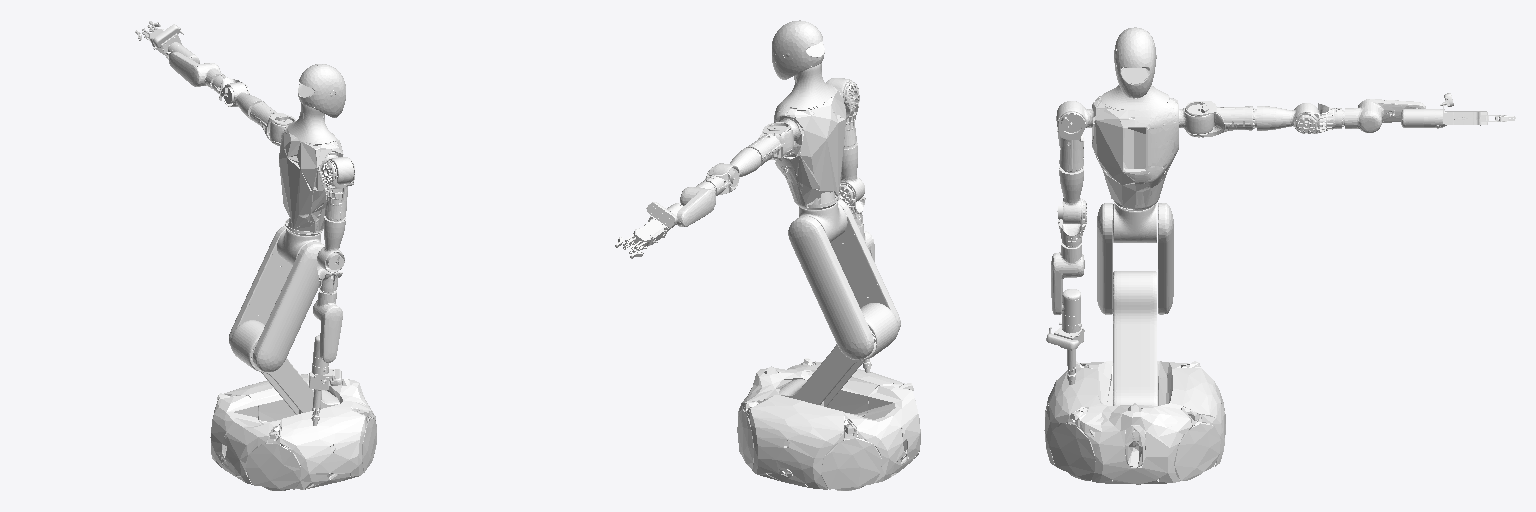
--- Facts derived from the render (not from the file) ---
3 views of the same robot in one strip: view 1: azimuth 30°, elevation 25°; view 2: azimuth 150°, elevation 25°; view 3: azimuth 270°, elevation 25° (orthographic).
Model galbot_one with 51 links and 50 joints (7 revolute, 2 prismatic, 41 fixed), rooted at mobile_base, posed all joints at 0 but 2 set to mid-range because 0 is outside their limits (left_gripper_left_joint = 0.0275, left_gripper_right_joint = 0.0275).
Links seen in each view (by area): view 1: omni_chassis_base_link, leg_link2, torso_base_link, leg_link1, head_link2, right_arm_link5, right_arm_link2, right_arm_link3, left_arm_link5, left_arm_link3, leg_link3, left_arm_link2; view 2: omni_chassis_base_link, leg_link2, torso_base_link, leg_link1, head_link2, left_arm_link5, left_arm_link2, left_arm_link3, leg_link3, left_gripper_base_link, right_arm_link2, right_arm_link3 (+1 smaller); view 3: omni_chassis_base_link, torso_base_link, leg_link1, leg_link2, head_link2, left_arm_link5, leg_link3, right_arm_link5, left_arm_link2, right_arm_link3, right_arm_link2, left_arm_link3 (+5 smaller).
Link boxes in pixels (x1,y1,x2,y2): omni_chassis_base_link: (210, 373, 376, 490); leg_link2: (229, 226, 324, 371); torso_base_link: (279, 103, 343, 232); leg_link1: (231, 320, 339, 414); head_link2: (298, 64, 345, 117); right_arm_link5: (313, 289, 342, 362); right_arm_link2: (322, 158, 354, 221); right_arm_link3: (317, 216, 345, 272); left_arm_link5: (169, 52, 224, 89); left_arm_link3: (221, 82, 264, 119); leg_link3: (277, 229, 321, 265); left_arm_link2: (250, 102, 295, 145); omni_chassis_base_link: (737, 358, 920, 490); leg_link2: (788, 199, 900, 359); torso_base_link: (774, 63, 845, 207); leg_link1: (779, 303, 898, 406); head_link2: (772, 20, 824, 79); left_arm_link5: (677, 181, 715, 226); left_arm_link2: (746, 122, 791, 165); left_arm_link3: (712, 148, 760, 190); leg_link3: (799, 199, 847, 242); left_gripper_base_link: (623, 216, 668, 253); right_arm_link2: (826, 79, 859, 148); right_arm_link3: (840, 142, 864, 201); omni_chassis_base_link: (1044, 361, 1225, 484); torso_base_link: (1092, 85, 1178, 209); leg_link1: (1113, 271, 1156, 449); leg_link2: (1097, 203, 1173, 314); head_link2: (1114, 27, 1156, 98); left_arm_link5: (1345, 99, 1425, 132); leg_link3: (1113, 203, 1156, 242); right_arm_link5: (1051, 243, 1084, 314); left_arm_link2: (1185, 101, 1256, 137); right_arm_link3: (1057, 166, 1083, 223); right_arm_link2: (1057, 112, 1084, 172); left_arm_link3: (1257, 103, 1319, 131).
Bounding box of the posed robot: 0.5907 × 1.53 × 1.58 m (x, y, z).
Meshes: 33 distinct files referenced, 35 mesh visuals loaded (33 binary STL).

URDF robot description (galbot_one):
<?xml version="1.0" ?>
<!-- =================================================================================== -->
<!-- |    This document was autogenerated by xacro from urdf/galbot_one/galbot_one.xacro | -->
<!-- |    EDITING THIS FILE BY HAND IS NOT RECOMMENDED                                 | -->
<!-- =================================================================================== -->
<!-- 
#####################################################################################
#
# Copyright (c) 2023-2024 Galbot, Inc. All lefts Reserved.
#
# This software contains confidential and proprietary information of Galbot, Inc.
# ("Confidential Information"). You shall not disclose such Confidential Information
# and shall use it only in accordance with the terms of the license agreement you
# entered into with Galbot, Inc.
#
# UNAUTHORIZED COPYING, USE, OR DISTRIBUTION OF THIS SOFTWARE, OR ANY PORTION OR
# DERIVATIVE THEREOF, IS STRICTLY PROHIBITED. IF YOU HAVE RECEIVED THIS SOFTWARE IN
# ERROR, PLEASE NOTIFY GALBOT, INC. IMMEDIATELY AND DELETE IT FROM YOUR SYSTEM.
#
#####################################################################################
#
# Description: Xacro file for Galbot One.
# Author: Herman Ye@Galbot, Yuhao Zeng@Galbot
#
#####################################################################################
-->
<robot name="galbot_one">
  <!-- ROBOT -->
  <!-- Robot Base Link -->

  <link name="mobile_base">
        <inertial>
            <mass value="0"/>
            <inertia ixx="0" ixy="0" ixz="0" iyy="0" iyz="0" izz="0"/>
        </inertial>
    </link>
    <link name="base_link_x">
        <inertial>
            <mass value="0"/>
            <inertia ixx="0" ixy="0" ixz="0" iyy="0" iyz="0" izz="0"/>
        </inertial>
    </link>
    <link name="base_link_y">
        <inertial>
            <mass value="0"/>
            <inertia ixx="0" ixy="0" ixz="0" iyy="0" iyz="0" izz="0"/>
        </inertial>
    </link>
    <link name="base_link_z">
        <inertial>
            <mass value="0"/>
            <inertia ixx="0" ixy="0" ixz="0" iyy="0" iyz="0" izz="0"/>
        </inertial>
    </link>
    <joint name="mobile_x" type="fixed">
        <origin rpy="0 0 0.0" xyz="0 0 0.0"/>
        <parent link="mobile_base"/>
        <child link="base_link_x"/>
        <!-- <axis xyz="1 0 0"/>
        <dynamics damping="10.0"/>
        <limit effort="87" lower="-50.0" upper="50.0" velocity="3.0"/> -->
    </joint>
    <joint name="mobile_y" type="fixed">
        <origin rpy="0 0 0.0" xyz="0 0 0.0"/>
        <parent link="base_link_x"/>
        <child link="base_link_y"/>
        <!-- <axis xyz="0 1 0"/>
        <dynamics damping="10.0"/>
        <limit effort="87" lower="-50.0" upper="50.0" velocity="3.0"/> -->
    </joint>
    <joint name="mobile_yaw" type="fixed">
        <origin rpy="0 0 0.0" xyz="0 0 0.0"/>
        <parent link="base_link_y"/>
        <child link="base_link_z"/>
        <!-- <axis xyz="0 0 1"/>
        <dynamics damping="10.0"/>
        <limit effort="87" lower="-6.0" upper="6.0" velocity="4.50"/> -->
    </joint>
    <joint name="base_fixed" type="fixed">
        <origin rpy="0 0 0.0" xyz="0 0 0.0"/>
        <parent link="base_link_z"/>
        <child link="base_link"/>
        <axis xyz="0 0 0"/>
    </joint>


  <link name="base_link"/>
  <joint name="omni_chassis_joint" type="fixed">
    <origin rpy="0 0 0" xyz="0 0 0"/>
    <parent link="base_link"/>
    <child link="omni_chassis_base_link"/>
  </joint>
  <link name="omni_chassis_base_link">
    <inertial>
      <origin rpy="0 0 0" xyz="0.00094269 0.00017452 0.09326"/>
      <mass value="8.7914"/>
      <inertia ixx="0.11584" ixy="-0.00011125" ixz="0.00045932" iyy="0.08221" iyz="2.8393E-06" izz="0.14295"/>
    </inertial>
    <visual>
      <origin rpy="0 0 0" xyz="0 0 0"/>
      <geometry>
        <mesh filename="meshes/chassis/omni_chassis_base_link.stl"/>
      </geometry>
      <material name="">
        <color rgba="1 1 1 1"/>
      </material>
    </visual>
    <collision>
      <origin rpy="0 0 0" xyz="0 0 0"/>
      <geometry>
        <mesh filename="meshes/chassis/omni_chassis_base_link.stl"/>
      </geometry>
    </collision>
  </link>
  <link name="omni_chassis_leg_mount_link"/>
  <joint name="omni_chassis_leg_mount_joint" type="fixed">
    <origin rpy="1.5707963267948966 0 0" xyz="0.134 -0.087 0.13"/>
    <parent link="omni_chassis_base_link"/>
    <child link="omni_chassis_leg_mount_link"/>
    <axis xyz="0 0 0"/>
  </joint>
  <joint name="leg_joint" type="fixed">
    <origin rpy="0 0 0" xyz="0 0 0"/>
    <parent link="omni_chassis_leg_mount_link"/>
    <child link="leg_base_link"/>
  </joint>
  <link name="leg_base_link">
    <inertial>
      <origin rpy="0 0 0" xyz="0.0027248 -0.094364 -0.050137"/>
      <mass value="0.91885"/>
      <inertia ixx="0.0043203" ixy="6.1508E-05" ixz="8.9569E-05" iyy="0.0039878" iyz="-0.0010684" izz="0.0027984"/>
    </inertial>
    <visual>
      <origin rpy="0 0 0" xyz="0 0 0"/>
      <geometry>
        <mesh filename="meshes/leg/leg_base_link.stl"/>
      </geometry>
      <material name="">
        <color rgba="1 1 1 1"/>
      </material>
    </visual>
    <collision>
      <origin rpy="0 0 0" xyz="0 0 0"/>
      <geometry>
        <mesh filename="meshes/leg/leg_base_link.stl"/>
      </geometry>
    </collision>
  </link>
  <link name="leg_link1">
    <inertial>
      <origin rpy="0 0 0" xyz="0.23294 -0.0052987 0.0039698"/>
      <mass value="4.7692"/>
      <inertia ixx="0.019082" ixy="-0.0011116" ixz="0.00034191" iyy="0.16145" iyz="-6.2146E-05" izz="0.15826"/>
    </inertial>
    <visual>
      <origin rpy="0 0 0" xyz="0 0 0"/>
      <geometry>
        <mesh filename="meshes/leg/leg_link1.stl"/>
      </geometry>
      <material name="">
        <color rgba="1 1 1 1"/>
      </material>
    </visual>
    <collision>
      <origin rpy="0 0 0" xyz="0 0 0"/>
      <geometry>
        <mesh filename="meshes/leg/leg_link1.stl"/>
      </geometry>
    </collision>
  </link>
  <joint name="leg_joint1" type="fixed">
    <!-- <origin rpy="-3.141592653589793 0 2.756573021" xyz="0 0 -0.087"/> -->
    <origin rpy="-3.141592653589793 0 2.259573021" xyz="0 0 -0.087"/>
    <parent link="leg_base_link"/>
    <child link="leg_link1"/>
    <!-- <axis xyz="0 0 1"/>
    <limit effort="169" lower="0" upper="0.994837674" velocity="2.3"/> -->
  </joint>
  <link name="leg_link2">
    <inertial>
      <origin rpy="0 0 0" xyz="0.19637 2.4915E-06 0.0034234"/>
      <mass value="3.6233"/>
      <inertia ixx="0.0054462" ixy="-2.1435E-06" ixz="-2.9611E-05" iyy="0.066819" iyz="5.2347E-08" izz="0.071791"/>
    </inertial>
    <visual>
      <origin rpy="0 0 0" xyz="0 0 0"/>
      <geometry>
        <mesh filename="meshes/leg/leg_link2.stl"/>
      </geometry>
      <material name="">
        <color rgba="1 1 1 1"/>
      </material>
    </visual>
    <collision>
      <origin rpy="0 0 0" xyz="0 0 0"/>
      <geometry>
        <mesh filename="meshes/leg/leg_link2.stl"/>
      </geometry>
    </collision>
  </link>
  <joint name="leg_joint2" type="fixed">
    <!-- <origin rpy="-3.141592653589793 0 2.756573021" xyz="0.45 0 0"/> -->
    <origin rpy="-3.141592653589793 0 1.185573021" xyz="0.45 0 0"/>
    <parent link="leg_link1"/>
    <child link="leg_link2"/>
    <!-- <axis xyz="0 0 1"/>
    <limit effort="169" lower="0" upper="3.141592654" velocity="2.3"/> -->
  </joint>
  <link name="leg_link3">
    <inertial>
      <origin rpy="0 0 0" xyz="-1.1016E-05 0.012237 0.0042074"/>
      <mass value="1.7624"/>
      <inertia ixx="0.006745" ixy="-4.1776E-07" ixz="8.7932E-07" iyy="0.0066437" iyz="9.063E-05" izz="0.0073862"/>
    </inertial>
    <visual>
      <origin rpy="0 0 0" xyz="0 0 0"/>
      <geometry>
        <mesh filename="meshes/leg/leg_link3.stl"/>
      </geometry>
      <material name="">
        <color rgba="1 1 1 1"/>
      </material>
    </visual>
    <collision>
      <origin rpy="0 0 0" xyz="0 0 0"/>
      <geometry>
        <mesh filename="meshes/leg/leg_link3.stl"/>
      </geometry>
    </collision>
  </link>
  <joint name="leg_joint3" type="fixed">
    <!-- <origin rpy="-3.141592653589793 0 -3.141592653589793" xyz="0.39 0 0"/> -->
    <origin rpy="-3.141592653589793 0 1.9635926535897932" xyz="0.39 0 0"/>
    <parent link="leg_link2"/>
    <child link="leg_link3"/>
    <axis xyz="0 0 1"/>
    <limit effort="84" lower="0" upper="2.35619449" velocity="2.83"/>
  </joint>
  <link name="leg_link4">
    <inertial>
      <origin rpy="0 0 0" xyz="5.7927E-05 -3.0701E-05 0.15111"/>
      <mass value="0.37584"/>
      <inertia ixx="0.00049514" ixy="-3.0213E-07" ixz="-3.9055E-09" iyy="0.00051468" iyz="1.3486E-09" izz="0.00084078"/>
    </inertial>
    <visual>
      <origin rpy="0 0 0" xyz="0 0 0"/>
      <geometry>
        <mesh filename="meshes/leg/leg_link4.stl"/>
      </geometry>
      <material name="">
        <color rgba="1 1 1 1"/>
      </material>
    </visual>
    <collision>
      <origin rpy="0 0 0" xyz="0 0 0"/>
      <geometry>
        <mesh filename="meshes/leg/leg_link4.stl"/>
      </geometry>
    </collision>
  </link>
  <joint name="leg_joint4" type="fixed">
    <origin rpy="1.5707963267948966 0 -3.141592653589793" xyz="0 0 0"/>
    <parent link="leg_link3"/>
    <child link="leg_link4"/>
    <!-- <axis xyz="0 0 1"/>
    <limit effort="30" lower="-1.570796327" upper="1.570796327" velocity="3.56"/> -->
  </joint>
  <link name="leg_torso_mount_link"/>
  <joint name="leg_torso_mount_joint" type="fixed">
    <origin rpy="0 0 0" xyz="0 0 0"/>
    <parent link="leg_link4"/>
    <child link="leg_torso_mount_link"/>
    <axis xyz="0 0 0"/>
  </joint>
  <joint name="torso_joint" type="fixed">
    <origin rpy="0 0 0" xyz="0 0 0"/>
    <parent link="leg_torso_mount_link"/>
    <child link="torso_base_link"/>
  </joint>
  <link name="torso_base_link">
    <inertial>
      <origin rpy="0 0 0" xyz="0.009452 -0.0097068 -0.041989"/>
      <mass value="1.5697"/>
      <inertia ixx="0.018397" ixy="-6.5897E-07" ixz="0.00030036" iyy="0.013058" iyz="0.00016843" izz="0.0082332"/>
    </inertial>
    <visual>
      <origin rpy="0 0 0" xyz="0 0 0"/>
      <geometry>
        <mesh filename="meshes/torso/torso_base_link.stl"/>
      </geometry>
      <material name="">
        <color rgba="1 1 1 1"/>
      </material>
    </visual>
    <collision>
      <origin rpy="0 0 0" xyz="0 0 0"/>
      <geometry>
        <mesh filename="meshes/torso/torso_base_link.stl"/>
      </geometry>
    </collision>
  </link>
  <!-- Head Mount -->
  <link name="torso_head_mount_link"/>
  <joint name="torso_head_mount_joint" type="fixed">
    <origin rpy="0 0 0" xyz="-0.0081669 5E-05 0.51594"/>
    <parent link="torso_base_link"/>
    <child link="torso_head_mount_link"/>
    <axis xyz="0 0 0"/>
  </joint>
  <!-- Right Arm Mount -->
  <link name="torso_right_arm_mount_link"/>
  <joint name="torso_right_arm_mount_joint" type="fixed">
    <origin rpy="1.5707963267948966 0 0" xyz="0 -0.13 0.39599"/>
    <parent link="torso_base_link"/>
    <child link="torso_right_arm_mount_link"/>
    <axis xyz="0 0 0"/>
  </joint>
  <!-- Left Arm Mount -->
  <link name="torso_left_arm_mount_link"/>
  <joint name="torso_left_arm_mount_joint" type="fixed">
    <origin rpy="1.5707963267948966 0 3.141592653589793" xyz="0 0.13 0.39599"/>
    <parent link="torso_base_link"/>
    <child link="torso_left_arm_mount_link"/>
    <axis xyz="0 0 0"/>
  </joint>
  <joint name="head_joint" type="fixed">
    <origin rpy="0 0 0" xyz="0 0 0"/>
    <parent link="torso_head_mount_link"/>
    <child link="head_base_link"/>
  </joint>
  <link name="head_base_link">
    <inertial>
      <origin rpy="0 0 0" xyz="0.009452 -0.0097068 -0.16194"/>
      <mass value="1.5697"/>
      <inertia ixx="0.018397" ixy="-6.5897E-07" ixz="0.00030036" iyy="0.013058" iyz="0.00016843" izz="0.0082332"/>
    </inertial>
    <visual>
      <origin rpy="0 0 0" xyz="0 0 0"/>
      <geometry>
        <mesh filename="meshes/head/head_base_link.stl"/>
      </geometry>
      <material name="">
        <color rgba="1 1 1 1"/>
      </material>
    </visual>
    <collision>
      <origin rpy="0 0 0" xyz="0 0 0"/>
      <geometry>
        <mesh filename="meshes/head/head_base_link.stl"/>
      </geometry>
    </collision>
  </link>
  <link name="head_link1">
    <inertial>
      <origin rpy="0 0 0" xyz="0 0.020487 -0.038531"/>
      <mass value="0.067654"/>
      <inertia ixx="6.0514E-05" ixy="9.335E-21" ixz="-2.5793E-20" iyy="6.6478E-05" iyz="-1.3077E-05" izz="2.4032E-05"/>
    </inertial>
    <visual>
      <origin rpy="0 0 0" xyz="0 0 0"/>
      <geometry>
        <mesh filename="meshes/head/head_link1.stl"/>
      </geometry>
      <material name="">
        <color rgba="1 1 1 1"/>
      </material>
    </visual>
    <collision>
      <origin rpy="0 0 0" xyz="0 0 0"/>
      <geometry>
        <mesh filename="meshes/head/head_link1.stl"/>
      </geometry>
    </collision>
  </link>
  <joint name="head_joint1" type="fixed">
    <origin rpy="0 0 0" xyz="0 0 0.068"/>
    <parent link="head_base_link"/>
    <child link="head_link1"/>
    <!-- <axis xyz="0 0 1"/>
    <limit effort="4" lower="-1.570796327" upper="1.570796327" velocity="8.38"/> -->
  </joint>
  <link name="head_link2">
    <inertial>
      <origin rpy="0 0 0" xyz="0.024473 -0.053558 0.0026343"/>
      <mass value="0.34019"/>
      <inertia ixx="0.0011508" ixy="-0.00026177" ixz="-4.0924E-07" iyy="0.00085046" iyz="1.4953E-08" izz="0.0010147"/>
    </inertial>
    <visual>
      <origin rpy="0 0 0" xyz="0 0 0"/>
      <geometry>
        <mesh filename="meshes/head/head_link2.stl"/>
      </geometry>
      <material name="">
        <color rgba="1 1 1 1"/>
      </material>
    </visual>
    <collision>
      <origin rpy="0 0 0" xyz="0 0 0"/>
      <geometry>
        <mesh filename="meshes/head/head_link2.stl"/>
      </geometry>
    </collision>
  </link>
  <joint name="head_joint2" type="fixed">
    <origin rpy="-1.5707963267948966 0 0" xyz="0 0 0"/>
    <parent link="head_link1"/>
    <child link="head_link2"/>
    <!-- <axis xyz="0 0 1"/>
    <limit effort="4" lower="-0.366519143" upper="0.366519143" velocity="8.38"/> -->
  </joint>
  <joint name="right_arm_joint" type="fixed">
    <origin rpy="0 0 0" xyz="0 0 0"/>
    <parent link="torso_right_arm_mount_link"/>
    <child link="right_arm_base_link"/>
  </joint>
  <link name="right_arm_base_link">
    <inertial>
      <origin rpy="0 0 0" xyz="-0.000533006129660687 0.000198297061670072 -0.0301844828757755"/>
      <mass value="1.10147619180644"/>
      <inertia ixx="0.000565108607160801" ixy="3.47222948820335E-06" ixz="-1.99104558319723E-05" iyy="0.000573095012457538" iyz="7.38740833192177E-06" izz="0.000685130221778769"/>
    </inertial>
    <visual>
      <origin rpy="0 0 0" xyz="0 0 0"/>
      <geometry>
        <mesh filename="meshes/arm/right_arm_base_link.stl"/>
      </geometry>
      <material name="">
        <color rgba="1 1 1 1"/>
      </material>
    </visual>
    <collision>
      <origin rpy="0 0 0" xyz="0 0 0"/>
      <geometry>
        <mesh filename="meshes/arm/right_arm_base_link.stl"/>
      </geometry>
    </collision>
  </link>
  <link name="right_arm_link1">
    <inertial>
      <origin rpy="0 0 0" xyz="3.49009164621467E-05 0.0108339687508697 -0.00355285779638756"/>
      <mass value="1.50298216561586"/>
      <inertia ixx="0.00141484199510697" ixy="1.78602050106263E-06" ixz="-8.63528107802525E-07" iyy="0.00177403869249562" iyz="5.86035752669724E-06" izz="0.00110206097229515"/>
    </inertial>
    <visual>
      <origin rpy="0 0 0" xyz="0 0 0"/>
      <geometry>
        <mesh filename="meshes/arm/right_arm_link1.stl"/>
      </geometry>
      <material name="">
        <color rgba="1 1 1 1"/>
      </material>
    </visual>
    <collision>
      <origin rpy="0 0 0" xyz="0 0 0"/>
      <geometry>
        <mesh filename="meshes/arm/right_arm_link1.stl"/>
      </geometry>
    </collision>
  </link>
  <joint name="right_arm_joint1" type="fixed">
    <!-- <origin rpy="0 0 0" xyz="0 0 0.076"/> -->
    <origin rpy="0 0 -1.571" xyz="0 0 0.076"/>
    <parent link="right_arm_base_link"/>
    <child link="right_arm_link1"/>
    <!-- <axis xyz="0 0 1"/>
    <limit effort="60" lower="-3.141592654" upper="3.141592654" velocity="1.5"/> -->
  </joint>
  <link name="right_arm_link2">
    <inertial>
      <origin rpy="0 0 0" xyz="-0.0011542937189659 -0.125918427333295 0.00403909337671848"/>
      <mass value="1.45678998733303"/>
      <inertia ixx="0.00269801896410487" ixy="4.63119567548212E-05" ixz="-1.77748665814381E-05" iyy="0.00131692955308753" iyz="-0.000382862812261171" izz="0.00264831680492027"/>
    </inertial>
    <visual>
      <origin rpy="0 0 0" xyz="0 0 0"/>
      <geometry>
        <mesh filename="meshes/arm/right_arm_link2.stl"/>
      </geometry>
      <material name="">
        <color rgba="1 1 1 1"/>
      </material>
    </visual>
    <collision>
      <origin rpy="0 0 0" xyz="0 0 0"/>
      <geometry>
        <mesh filename="meshes/arm/right_arm_link2.stl"/>
      </geometry>
    </collision>
  </link>
  <joint name="right_arm_joint2" type="fixed">
    <!-- <origin rpy="-1.5707963267948966 0 3.141592653589793" xyz="0 0 0"/> -->
    <origin rpy="1.5707963267935339 -1.5705926535881751 0" xyz="0 0 0"/>
    <parent link="right_arm_link1"/>
    <child link="right_arm_link2"/>
    <!-- <axis xyz="0 0 1"/>
    <limit effort="60" lower="-2.1" upper="1.570796327" velocity="1.5"/> -->
  </joint>
  <link name="right_arm_link3">
    <inertial>
      <origin rpy="0 0 0" xyz="0.000352305768300032 -0.00726519320891149 -0.0216211172275835"/>
      <mass value="1.19882450635199"/>
      <inertia ixx="0.00220937810713451" ixy="-1.39043584660172E-05" ixz="1.48996603867525E-06" iyy="0.00236018741531392" iyz="4.46418780437893E-05" izz="0.000843927012398976"/>
    </inertial>
    <visual>
      <origin rpy="0 0 0" xyz="0 0 0"/>
      <geometry>
        <mesh filename="meshes/arm/right_arm_link3.stl"/>
      </geometry>
      <material name="">
        <color rgba="1 1 1 1"/>
      </material>
    </visual>
    <collision>
      <origin rpy="0 0 0" xyz="0 0 0"/>
      <geometry>
        <mesh filename="meshes/arm/right_arm_link3.stl"/>
      </geometry>
    </collision>
  </link>
  <joint name="right_arm_joint3" type="fixed">
    <origin rpy="1.5707963267948966 1.5707963267948966 0" xyz="0 -0.35 0"/>
    <parent link="right_arm_link2"/>
    <child link="right_arm_link3"/>
    <!-- <axis xyz="0 0 1"/>
    <limit effort="30" lower="-3.141592654" upper="3.141592654" velocity="1.5"/> -->
  </joint>
  <link name="right_arm_link4">
    <inertial>
      <origin rpy="0 0 0" xyz="1.5931431873728E-07 -0.084100166334916 0.0032662830921263"/>
      <mass value="0.867364365948374"/>
      <inertia ixx="0.000877887383976985" ixy="1.06944001020881E-08" ixz="-1.42122359084054E-07" iyy="0.000585386964708275" iyz="-0.000142796694938426" izz="0.000827176121025835"/>
    </inertial>
    <visual>
      <origin rpy="0 0 0" xyz="0 0 0"/>
      <geometry>
        <mesh filename="meshes/arm/right_arm_link4.stl"/>
      </geometry>
      <material name="">
        <color rgba="1 1 1 1"/>
      </material>
    </visual>
    <collision>
      <origin rpy="0 0 0" xyz="0 0 0"/>
      <geometry>
        <mesh filename="meshes/arm/right_arm_link4.stl"/>
      </geometry>
    </collision>
  </link>
  <joint name="right_arm_joint4" type="fixed">
    <origin rpy="-1.5707963267948966 0 3.141592653589793" xyz="0 0 0"/>
    <parent link="right_arm_link3"/>
    <child link="right_arm_link4"/>
    <!-- <axis xyz="0 0 1"/>
    <limit effort="30" lower="-2.1" upper="2.1" velocity="1.5"/> -->
  </joint>
  <link name="right_arm_link5">
    <inertial>
      <origin rpy="0 0 0" xyz="-1.30340366499837E-06 0.0256418767190977 -0.117743286278551"/>
      <mass value="1.39256420094548"/>
      <inertia ixx="0.00316702853902255" ixy="7.21162282210242E-08" ixz="-1.52177542728743E-07" iyy="0.00325737339135618" iyz="-0.000396176140685722" izz="0.000888812918742085"/>
    </inertial>
    <visual>
      <origin rpy="0 0 0" xyz="0 0 0"/>
      <geometry>
        <mesh filename="meshes/arm/right_arm_link5.stl"/>
      </geometry>
      <material name="">
        <color rgba="1 1 1 1"/>
      </material>
    </visual>
    <collision>
      <origin rpy="0 0 0" xyz="0 0 0"/>
      <geometry>
        <mesh filename="meshes/arm/right_arm_link5.stl"/>
      </geometry>
    </collision>
  </link>
  <joint name="right_arm_joint5" type="fixed">
    <origin rpy="1.5707963267948966 0 0" xyz="0 -0.36 0"/>
    <parent link="right_arm_link4"/>
    <child link="right_arm_link5"/>
    <!-- <axis xyz="0 0 1"/>
    <limit effort="10" lower="-3.141592654" upper="3.141592654" velocity="1.5"/> -->
  </joint>
  <link name="right_arm_link6">
    <inertial>
      <origin rpy="0 0 0" xyz="-2.88922358060439E-06 -0.000979379563628591 -1.95950029232006E-05"/>
      <mass value="0.574328152865271"/>
      <inertia ixx="0.000196239414479137" ixy="-4.42040670473688E-09" ixz="-2.96256099677375E-08" iyy="0.00023336393089217" iyz="-6.88062986985096E-08" izz="0.000196560460694031"/>
    </inertial>
    <visual>
      <origin rpy="0 0 0" xyz="0 0 0"/>
      <geometry>
        <mesh filename="meshes/arm/right_arm_link6.stl"/>
      </geometry>
      <material name="">
        <color rgba="1 1 1 1"/>
      </material>
    </visual>
    <collision>
      <origin rpy="0 0 0" xyz="0 0 0"/>
      <geometry>
        <mesh filename="meshes/arm/right_arm_link6.stl"/>
      </geometry>
    </collision>
  </link>
  <joint name="right_arm_joint6" type="fixed">
    <origin rpy="-1.5707963267948966 0 3.141592653589793" xyz="0 0 0"/>
    <parent link="right_arm_link5"/>
    <child link="right_arm_link6"/>
    <!-- <axis xyz="0 0 1"/>
    <limit effort="10" lower="-1.570796327" upper="1.570796327" velocity="1.5"/> -->
  </joint>
  <link name="right_arm_link7">
    <inertial>
      <origin rpy="0 0 0" xyz="0.000145324653036516 0.000669639293546548 0.0517788732710871"/>
      <mass value="0.271983892475789"/>
      <inertia ixx="9.12795880546355E-05" ixy="-3.70484062161125E-07" ixz="3.02036543797804E-07" iyy="9.01051818347072E-05" iyz="-2.27095800634144E-07" izz="0.00015076316927533"/>
    </inertial>
    <visual>
      <origin rpy="0 0 0" xyz="0 0 0"/>
      <geometry>
        <mesh filename="meshes/arm/right_arm_link7.stl"/>
      </geometry>
      <material name="">
        <color rgba="1 1 1 1"/>
      </material>
    </visual>
    <collision>
      <origin rpy="0 0 0" xyz="0 0 0"/>
      <geometry>
        <mesh filename="meshes/arm/right_arm_link7.stl"/>
      </geometry>
    </collision>
  </link>
  <joint name="right_arm_joint7" type="fixed">
    <origin rpy="-1.5707963267948966 3.141592653589793 3.141592653589793" xyz="0 0 0"/>
    <parent link="right_arm_link6"/>
    <child link="right_arm_link7"/>
    <!-- <axis xyz="0 0 1"/>
    <limit effort="10" lower="-3.141592654" upper="3.141592654" velocity="1.5"/> -->
  </joint>
  <link name="right_arm_end_effector_mount_link"/>
  <joint name="right_arm_end_effector_mount_joint" type="fixed">
    <origin rpy="0 0 0" xyz="0 0 0.0845"/>
    <parent link="right_arm_link7"/>
    <child link="right_arm_end_effector_mount_link"/>
    <axis xyz="0 0 0"/>
  </joint>
  <joint name="right_flange_joint" type="fixed">
    <origin rpy="0 0 0.523598776" xyz="0 0 0"/>
    <parent link="right_arm_end_effector_mount_link"/>
    <child link="right_flange_base_link"/>
  </joint>
  <link name="right_flange_base_link">
    <inertial>
      <origin rpy="0 0 0" xyz="0.052829 -0.00096484 0.013285"/>
      <mass value="0.25733"/>
      <inertia ixx="0.0002175" ixy="-2.5433E-06" ixz="4.0586E-06" iyy="5.3894E-05" iyz="-1.8533E-06" izz="0.00025319"/>
    </inertial>
    <visual>
      <origin rpy="0 0 0" xyz="0 0 0"/>
      <geometry>
        <mesh filename="meshes/flange/flange_base_link.stl"/>
      </geometry>
      <material name="">
        <color rgba="1 1 1 1"/>
      </material>
    </visual>
    <collision>
      <origin rpy="0 0 0" xyz="0 0 0"/>
      <geometry>
        <mesh filename="meshes/flange/flange_base_link.stl"/>
      </geometry>
    </collision>
  </link>
  <link name="right_flange_mount_link"/>
  <joint name="right_flange_mount_joint" type="fixed">
    <origin rpy="0 0 0" xyz="0 0 0.006"/>
    <parent link="right_flange_base_link"/>
    <child link="right_flange_mount_link"/>
    <axis xyz="0 0 0"/>
  </joint>
  <joint name="right_arm_camera_joint" type="fixed">
    <origin rpy="3.1415926 -1.308996939 0" xyz="0.0526 -0.02 0.02054"/>
    <parent link="right_flange_base_link"/>
    <child link="right_arm_camera_flange_link"/>
  </joint>
  <link name="right_arm_camera_flange_link">
    <inertial>
      <origin rpy="0 0 0" xyz="0.052829 -0.00096484 0.013285"/>
      <mass value="0.25733"/>
      <inertia ixx="0.0002175" ixy="-2.5433E-06" ixz="4.0586E-06" iyy="5.3894E-05" iyz="-1.8533E-06" izz="0.00025319"/>
    </inertial>
    <visual>
      <origin rpy="0 0 0" xyz="0 0 0"/>
      <geometry>
        <mesh filename="meshes/camera/arm_camera.stl"/>
      </geometry>
      <material name="">
        <color rgba="1 1 1 1"/>
      </material>
    </visual>
    <collision>
      <origin rpy="0 0 0" xyz="0 0 0"/>
      <geometry>
        <mesh filename="meshes/camera/arm_camera.stl"/>
      </geometry>
    </collision>
  </link>
  <joint name="right_suction_cup_joint" type="fixed">
    <origin rpy="0 0 0" xyz="0 0 0"/>
    <parent link="right_flange_mount_link"/>
    <child link="right_suction_cup_base_link"/>
  </joint>
  <link name="right_suction_cup_base_link">
    <inertial>
      <origin rpy="0 0 0" xyz="-4.0035E-05 -0.00015919 0.065665"/>
      <mass value="0.36941"/>
      <inertia ixx="0.00014564" ixy="3.5459E-07" ixz="-1.2386E-07" iyy="0.00016918" iyz="-4.0084E-07" izz="0.000219"/>
    </inertial>
    <visual>
      <origin rpy="0 0 0" xyz="0 0 0"/>
      <geometry>
        <mesh filename="meshes/suction_cup/suction_cup_base_link.stl"/>
      </geometry>
      <material name="">
        <color rgba="1 1 1 1"/>
      </material>
    </visual>
    <collision>
      <origin rpy="0 0 0" xyz="0 0 0"/>
      <geometry>
        <mesh filename="meshes/suction_cup/suction_cup_base_link.stl"/>
      </geometry>
    </collision>
  </link>
  <link name="right_suction_cup_link1">
    <inertial>
      <origin rpy="0 0 0" xyz="0.037966 -3.0191E-05 -4.2414E-08"/>
      <mass value="0.063856"/>
      <inertia ixx="7.1717E-06" ixy="1.7711E-08" ixz="-3.6994E-11" iyy="8.0256E-06" iyz="4.7383E-09" izz="7.78E-06"/>
    </inertial>
    <visual>
      <origin rpy="0 0 0" xyz="0 0 0"/>
      <geometry>
        <mesh filename="meshes/suction_cup/suction_cup_link1.stl"/>
      </geometry>
      <material name="">
        <color rgba="1 1 1 1"/>
      </material>
    </visual>
    <collision>
      <origin rpy="0 0 0" xyz="0 0 0"/>
      <geometry>
        <mesh filename="meshes/suction_cup/suction_cup_link1.stl"/>
      </geometry>
    </collision>
  </link>
  <joint name="right_suction_cup_joint1" type="fixed">
    <origin rpy="1.5707963267948966 0 -1.5707963267948966" xyz="0 0 0.145"/>
    <parent link="right_suction_cup_base_link"/>
    <child link="right_suction_cup_link1"/>
    <!-- <axis xyz="0 0 1"/>
    <limit effort="1" lower="0" upper="1.570796327" velocity="1.570796327"/> -->
  </joint>
  <link name="right_suction_cup_tcp_link"/>
  <joint name="right_suction_cup_tcp_joint" type="fixed">
    <origin rpy="1.5707963267948966 1.5707963267948966 3.141592653589793" xyz="0 0.079807 0"/>
    <parent link="right_suction_cup_link1"/>
    <child link="right_suction_cup_tcp_link"/>
    <axis xyz="0 0 0"/>
  </joint>
  <joint name="left_arm_joint" type="fixed">
    <origin rpy="0 0 0" xyz="0 0 0"/>
    <parent link="torso_left_arm_mount_link"/>
    <child link="left_arm_base_link"/>
  </joint>
  <link name="left_arm_base_link">
    <inertial>
      <origin rpy="0 0 0" xyz="0.00056868 -5.0139E-06 -0.030184"/>
      <mass value="1.1015"/>
      <inertia ixx="0.00056381" ixy="1.1123E-07" ixz="2.1236E-05" iyy="0.00057439" iyz="-1.685E-07" izz="0.00068513"/>
    </inertial>
    <visual>
      <origin rpy="0 0 0" xyz="0 0 0"/>
      <geometry>
        <mesh filename="meshes/arm/left_arm_base_link.stl"/>
      </geometry>
      <material name="">
        <color rgba="1 1 1 1"/>
      </material>
    </visual>
    <collision>
      <origin rpy="0 0 0" xyz="0 0 0"/>
      <geometry>
        <mesh filename="meshes/arm/left_arm_base_link.stl"/>
      </geometry>
    </collision>
  </link>
  <link name="left_arm_link1">
    <inertial>
      <origin rpy="0 0 0" xyz="-3.4901E-05 -0.010834 -0.0035529"/>
      <mass value="1.503"/>
      <inertia ixx="0.0014148" ixy="1.786E-06" ixz="8.6353E-07" iyy="0.001774" iyz="-5.8604E-06" izz="0.0011021"/>
    </inertial>
    <visual>
      <origin rpy="0 0 0" xyz="0 0 0"/>
      <geometry>
        <mesh filename="meshes/arm/left_arm_link1.stl"/>
      </geometry>
      <material name="">
        <color rgba="1 1 1 1"/>
      </material>
    </visual>
    <collision>
      <origin rpy="0 0 0" xyz="0 0 0"/>
      <geometry>
        <mesh filename="meshes/arm/left_arm_link1.stl"/>
      </geometry>
    </collision>
  </link>
  <joint name="left_arm_joint1" type="revolute">
    <origin rpy="0 0 0" xyz="0 0 0.076"/>
    <parent link="left_arm_base_link"/>
    <child link="left_arm_link1"/>
    <axis xyz="0 0 1"/>
    <limit effort="60" lower="-3.141592654" upper="3.141592654" velocity="1.5"/>
  </joint>
  <link name="left_arm_link2">
    <inertial>
      <origin rpy="0 0 0" xyz="0.0011543 0.12592 0.0040391"/>
      <mass value="1.4568"/>
      <inertia ixx="0.002698" ixy="4.6312E-05" ixz="1.7775E-05" iyy="0.0013169" iyz="0.00038286" izz="0.0026483"/>
    </inertial>
    <visual>
      <origin rpy="0 0 0" xyz="0 0 0"/>
      <geometry>
        <mesh filename="meshes/arm/left_arm_link2.stl"/>
      </geometry>
      <material name="">
        <color rgba="1 1 1 1"/>
      </material>
    </visual>
    <collision>
      <origin rpy="0 0 0" xyz="0 0 0"/>
      <geometry>
        <mesh filename="meshes/arm/left_arm_link2.stl"/>
      </geometry>
    </collision>
  </link>
  <joint name="left_arm_joint2" type="revolute">
    <origin rpy="-1.5707963267948966 0 3.141592653589793" xyz="0 0 0"/>
    <parent link="left_arm_link1"/>
    <child link="left_arm_link2"/>
    <axis xyz="0 0 1"/>
    <limit effort="60" lower="-1.570796327" upper="2.1" velocity="1.5"/>
  </joint>
  <link name="left_arm_link3">
    <inertial>
      <origin rpy="0 0 0" xyz="0.00035231 -0.0072652 -0.021621"/>
      <mass value="1.1988"/>
      <inertia ixx="0.0022094" ixy="-1.3904E-05" ixz="1.4901E-06" iyy="0.0023602" iyz="4.4642E-05" izz="0.00084393"/>
    </inertial>
    <visual>
      <origin rpy="0 0 0" xyz="0 0 0"/>
      <geometry>
        <mesh filename="meshes/arm/left_arm_link3.stl"/>
      </geometry>
      <material name="">
        <color rgba="1 1 1 1"/>
      </material>
    </visual>
    <collision>
      <origin rpy="0 0 0" xyz="0 0 0"/>
      <geometry>
        <mesh filename="meshes/arm/left_arm_link3.stl"/>
      </geometry>
    </collision>
  </link>
  <joint name="left_arm_joint3" type="revolute">
    <origin rpy="1.5707963267948966 -1.5707963267948966 0" xyz="0 -0.35 0"/>
    <parent link="left_arm_link2"/>
    <child link="left_arm_link3"/>
    <axis xyz="0 0 1"/>
    <limit effort="30" lower="-3.141592654" upper="3.141592654" velocity="1.5"/>
  </joint>
  <link name="left_arm_link4">
    <inertial>
      <origin rpy="0 0 0" xyz="1.6053E-07 -0.0841 0.0032663"/>
      <mass value="0.86736"/>
      <inertia ixx="0.00087789" ixy="1.0686E-08" ixz="-1.4208E-07" iyy="0.00058539" iyz="-0.0001428" izz="0.00082718"/>
    </inertial>
    <visual>
      <origin rpy="0 0 0" xyz="0 0 0"/>
      <geometry>
        <mesh filename="meshes/arm/left_arm_link4.stl"/>
      </geometry>
      <material name="">
        <color rgba="1 1 1 1"/>
      </material>
    </visual>
    <collision>
      <origin rpy="0 0 0" xyz="0 0 0"/>
      <geometry>
        <mesh filename="meshes/arm/left_arm_link4.stl"/>
      </geometry>
    </collision>
  </link>
  <joint name="left_arm_joint4" type="revolute">
    <origin rpy="-1.5707963267948966 0 3.141592653589793" xyz="0 0 0"/>
    <parent link="left_arm_link3"/>
    <child link="left_arm_link4"/>
    <axis xyz="0 0 1"/>
    <limit effort="30" lower="-2.1" upper="2.1" velocity="1.5"/>
  </joint>
  <link name="left_arm_link5">
    <inertial>
      <origin rpy="0 0 0" xyz="1.5971E-06 -0.025642 -0.11774"/>
      <mass value="1.3926"/>
      <inertia ixx="0.003167" ixy="8.3315E-08" ixz="1.4879E-07" iyy="0.0032574" iyz="0.00039617" izz="0.00088879"/>
    </inertial>
    <visual>
      <origin rpy="0 0 0" xyz="0 0 0"/>
      <geometry>
        <mesh filename="meshes/arm/left_arm_link5.stl"/>
      </geometry>
      <material name="">
        <color rgba="1 1 1 1"/>
      </material>
    </visual>
    <collision>
      <origin rpy="0 0 0" xyz="0 0 0"/>
      <geometry>
        <mesh filename="meshes/arm/left_arm_link5.stl"/>
      </geometry>
    </collision>
  </link>
  <joint name="left_arm_joint5" type="revolute">
    <origin rpy="1.5707963267948966 0 0" xyz="0 -0.36 0"/>
    <parent link="left_arm_link4"/>
    <child link="left_arm_link5"/>
    <axis xyz="0 0 1"/>
    <limit effort="10" lower="-3.141592654" upper="3.141592654" velocity="1.5"/>
  </joint>
  <link name="left_arm_link6">
    <inertial>
      <origin rpy="0 0 0" xyz="-2.8892E-06 -0.00097938 -1.9595E-05"/>
      <mass value="0.57433"/>
      <inertia ixx="0.00019624" ixy="-4.4204E-09" ixz="-2.9626E-08" iyy="0.00023336" iyz="-6.8806E-08" izz="0.00019656"/>
    </inertial>
    <visual>
      <origin rpy="0 0 0" xyz="0 0 0"/>
      <geometry>
        <mesh filename="meshes/arm/left_arm_link6.stl"/>
      </geometry>
      <material name="">
        <color rgba="1 1 1 1"/>
      </material>
    </visual>
    <collision>
      <origin rpy="0 0 0" xyz="0 0 0"/>
      <geometry>
        <mesh filename="meshes/arm/left_arm_link6.stl"/>
      </geometry>
    </collision>
  </link>
  <joint name="left_arm_joint6" type="revolute">
    <origin rpy="-1.5707963267948966 0 3.141592653589793" xyz="0 0 0"/>
    <parent link="left_arm_link5"/>
    <child link="left_arm_link6"/>
    <axis xyz="0 0 1"/>
    <limit effort="10" lower="-1.570796327" upper="1.570796327" velocity="1.5"/>
  </joint>
  <link name="left_arm_link7">
    <inertial>
      <origin rpy="0 0 0" xyz="0.00014532 0.00066964 0.051779"/>
      <mass value="0.27198"/>
      <inertia ixx="9.128E-05" ixy="-3.7048E-07" ixz="3.0204E-07" iyy="9.0105E-05" iyz="-2.2709E-07" izz="0.00015076"/>
    </inertial>
    <visual>
      <origin rpy="0 0 0" xyz="0 0 0"/>
      <geometry>
        <mesh filename="meshes/arm/left_arm_link7.stl"/>
      </geometry>
      <material name="">
        <color rgba="1 1 1 1"/>
      </material>
    </visual>
    <collision>
      <origin rpy="0 0 0" xyz="0 0 0"/>
      <geometry>
        <mesh filename="meshes/arm/left_arm_link7.stl"/>
      </geometry>
    </collision>
  </link>
  <joint name="left_arm_joint7" type="revolute">
    <origin rpy="1.5707963267948966 0 0" xyz="0 0 0"/>
    <parent link="left_arm_link6"/>
    <child link="left_arm_link7"/>
    <axis xyz="0 0 1"/>
    <limit effort="10" lower="-3.141592654" upper="3.141592654" velocity="1.5"/>
  </joint>
  <link name="left_arm_end_effector_mount_link"/>
  <joint name="left_arm_end_effector_mount_joint" type="fixed">
    <origin rpy="0 0 0" xyz="0 0 0.0845"/>
    <parent link="left_arm_link7"/>
    <child link="left_arm_end_effector_mount_link"/>
    <axis xyz="0 0 0"/>
  </joint>
  <joint name="left_flange_joint" type="fixed">
    <origin rpy="0 0 2.617993878" xyz="0 0 0"/>
    <parent link="left_arm_end_effector_mount_link"/>
    <child link="left_flange_base_link"/>
  </joint>
  <link name="left_flange_base_link">
    <inertial>
      <origin rpy="0 0 0" xyz="0.052829 -0.00096484 0.013285"/>
      <mass value="0.25733"/>
      <inertia ixx="0.0002175" ixy="-2.5433E-06" ixz="4.0586E-06" iyy="5.3894E-05" iyz="-1.8533E-06" izz="0.00025319"/>
    </inertial>
    <visual>
      <origin rpy="0 0 0" xyz="0 0 0"/>
      <geometry>
        <mesh filename="meshes/flange/flange_base_link.stl"/>
      </geometry>
      <material name="">
        <color rgba="1 1 1 1"/>
      </material>
    </visual>
    <collision>
      <origin rpy="0 0 0" xyz="0 0 0"/>
      <geometry>
        <mesh filename="meshes/flange/flange_base_link.stl"/>
      </geometry>
    </collision>
  </link>
  <link name="left_flange_mount_link"/>
  <joint name="left_flange_mount_joint" type="fixed">
    <origin rpy="0 0 0" xyz="0 0 0.006"/>
    <parent link="left_flange_base_link"/>
    <child link="left_flange_mount_link"/>
    <axis xyz="0 0 0"/>
  </joint>
  <joint name="left_arm_camera_joint" type="fixed">
    <origin rpy="3.1415926 -1.308996939 0" xyz="0.0526 -0.02 0.02054"/>
    <parent link="left_flange_base_link"/>
    <child link="left_arm_camera_flange_link"/>
  </joint>
  <link name="left_arm_camera_flange_link">
    <inertial>
      <origin rpy="0 0 0" xyz="0.052829 -0.00096484 0.013285"/>
      <mass value="0.25733"/>
      <inertia ixx="0.0002175" ixy="-2.5433E-06" ixz="4.0586E-06" iyy="5.3894E-05" iyz="-1.8533E-06" izz="0.00025319"/>
    </inertial>
    <visual>
      <origin rpy="0 0 0" xyz="0 0 0"/>
      <geometry>
        <mesh filename="meshes/camera/arm_camera.stl"/>
      </geometry>
      <material name="">
        <color rgba="1 1 1 1"/>
      </material>
    </visual>
    <collision>
      <origin rpy="0 0 0" xyz="0 0 0"/>
      <geometry>
        <mesh filename="meshes/camera/arm_camera.stl"/>
      </geometry>
    </collision>
  </link>
  <joint name="left_gripper_joint" type="fixed">
    <origin rpy="0 0 0" xyz="0 0 0"/>
    <parent link="left_flange_mount_link"/>
    <child link="left_gripper_base_link"/>
  </joint>
  <link name="left_gripper_base_link">
    <inertial>
      <origin rpy="0 0 0" xyz="0.0875969515032359 -0.000593766922509439 -0.000273353044587243"/>
      <mass value="0.229646651659589"/>
      <inertia ixx="8.60029243295527E-05" ixy="2.00063024143341E-06" ixz="2.85398505671959E-06" iyy="7.73254340691918E-05" iyz="-1.0856442426917E-07" izz="9.78281466602487E-05"/>
    </inertial>
    <visual>
      <origin rpy="0 0 0" xyz="0 0 0"/>
      <geometry>
        <mesh filename="meshes/gripper/gripper_hitbot_base_link.stl"/>
      </geometry>
      <material name="">
        <color rgba="1 1 1 1"/>
      </material>
    </visual>
    <collision>
      <origin rpy="0 0 0" xyz="0 0 0"/>
      <geometry>
        <mesh filename="meshes/gripper/gripper_hitbot_base_link.stl"/>
      </geometry>
    </collision>
  </link>
  <link name="left_gripper_left_link">
    <inertial>
      <origin rpy="0 0 0" xyz="-0.0231481638496937 -4.90112376816481E-07 -0.000267991935875532"/>
      <mass value="0.00675449578859124"/>
      <inertia ixx="3.19945619554153E-07" ixy="-7.76829664652689E-12" ixz="-3.91342467850705E-07" iyy="1.5976052028241E-06" iyz="2.16781299849398E-11" izz="1.50158040800935E-06"/>
    </inertial>
    <visual>
      <origin rpy="0 0 0" xyz="0 0 0"/>
      <geometry>
        <mesh filename="meshes/gripper/gripper_hitbot_left_link.stl"/>
      </geometry>
      <material name="">
        <color rgba="1 1 1 1"/>
      </material>
    </visual>
    <collision>
      <origin rpy="0 0 0" xyz="0 0 0"/>
      <geometry>
        <mesh filename="meshes/gripper/gripper_hitbot_left_link.stl"/>
      </geometry>
    </collision>
  </link>
  <joint name="left_gripper_left_joint" type="prismatic">
    <origin rpy="1.5707963267948966 0 3.141592653589793" xyz="0 0 0.21579"/>
    <parent link="left_gripper_base_link"/>
    <child link="left_gripper_left_link"/>
    <axis xyz="0 0 1"/>
    <limit effort="2" lower="0.005" upper="0.05" velocity="0.045"/>
  </joint>
  <link name="left_gripper_right_link">
    <inertial>
      <origin rpy="0 0 0" xyz="-0.0231481638496943 -4.90112376734401E-07 -0.000267991935824489"/>
      <mass value="0.00675449578859123"/>
      <inertia ixx="3.19945619552427E-07" ixy="-7.76829655500751E-12" ixz="-3.91342467848098E-07" iyy="1.5976052028241E-06" iyz="2.16781300075729E-11" izz="1.50158040801108E-06"/>
    </inertial>
    <visual>
      <origin rpy="0 0 0" xyz="0 0 0"/>
      <geometry>
        <mesh filename="meshes/gripper/gripper_hitbot_right_link.stl"/>
      </geometry>
      <material name="">
        <color rgba="1 1 1 1"/>
      </material>
    </visual>
    <collision>
      <origin rpy="0 0 0" xyz="0 0 0"/>
      <geometry>
        <mesh filename="meshes/gripper/gripper_hitbot_right_link.stl"/>
      </geometry>
    </collision>
  </link>
  <joint name="left_gripper_right_joint" type="prismatic">
    <origin rpy="-1.5707963267948966 0 -3.141592653589793" xyz="0 0 0.21579"/>
    <parent link="left_gripper_base_link"/>
    <child link="left_gripper_right_link"/>
    <axis xyz="0 0 1"/>
    <limit effort="2" lower="0.005" upper="0.05" velocity="0.045"/>
    <!-- mimic not supported in isaac sim 2023.1.0-hotfix  -->
    <!-- <mimic joint="${name}_left_joint" multiplier="-1" offset="0" /> -->
  </joint>
  <!-- Tool Center Point -->
  <link name="left_gripper_tcp_link"/>
  <joint name="tcp_joint" type="fixed">
    <origin rpy="0 0 0" xyz="0 0 0.21579"/>
    <parent link="left_gripper_base_link"/>
    <child link="left_gripper_tcp_link"/>
    <axis xyz="0 0 0"/>
  </joint>
</robot>
